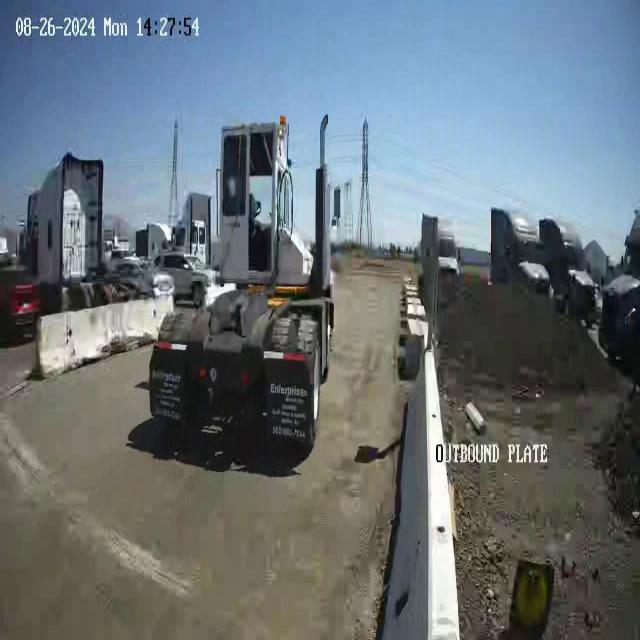BOBTAIL: (146, 112, 340, 461)
